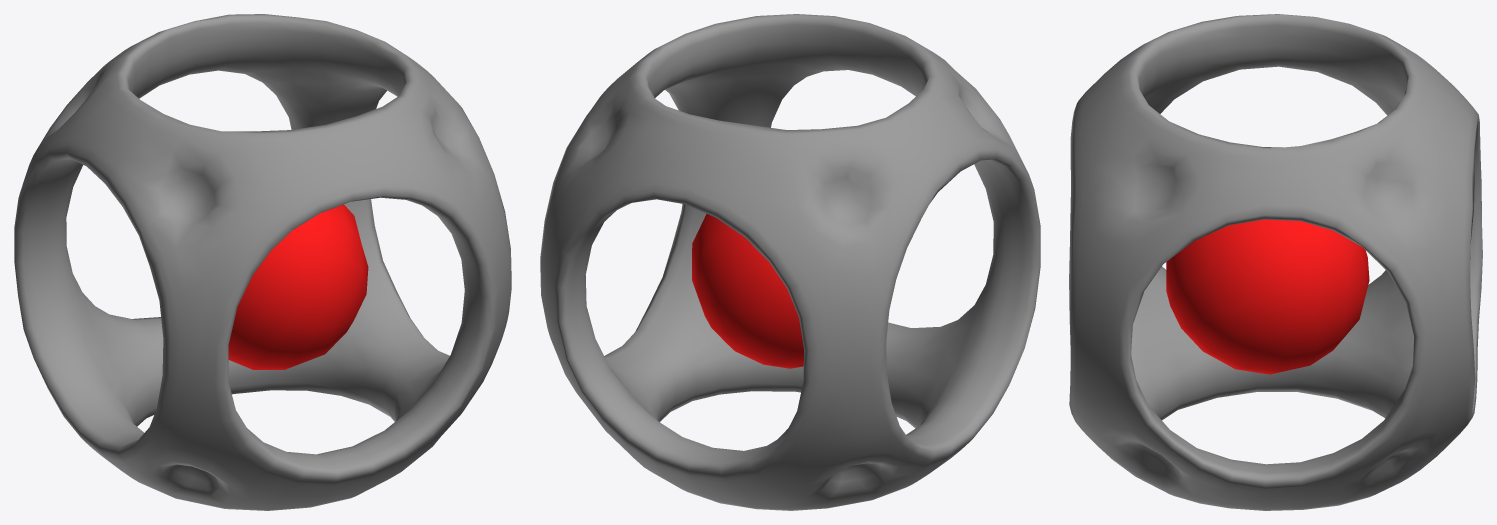
The model's file is Sumo_Ball.FBX.
3 renders of one model, left to right at view 1: azimuth 30°, elevation 25°; view 2: azimuth 150°, elevation 25°; view 3: azimuth 270°, elevation 25°, orthographic.
Parts seen in each view (by area): view 1: Sumo_Ball, Player_Ball; view 2: Sumo_Ball, Player_Ball; view 3: Sumo_Ball, Player_Ball.
Part boxes in pixels (bbox=[...]): Sumo_Ball: bbox=[14, 14, 511, 510]; Player_Ball: bbox=[228, 204, 368, 369]; Sumo_Ball: bbox=[540, 14, 1040, 510]; Player_Ball: bbox=[692, 214, 803, 368]; Sumo_Ball: bbox=[1069, 14, 1482, 510]; Player_Ball: bbox=[1166, 219, 1369, 374].
Size of the model in its own units: 55.02 by 56.59 by 55.41.
